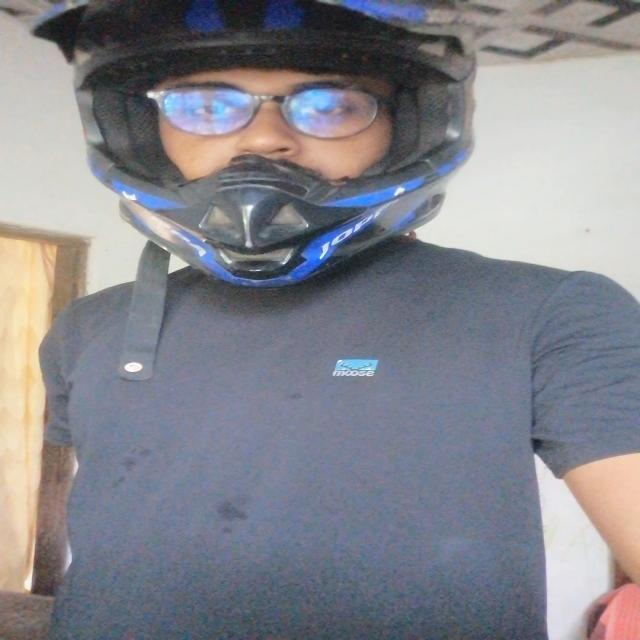Helmet_Wearer: (41, 0, 491, 293)
